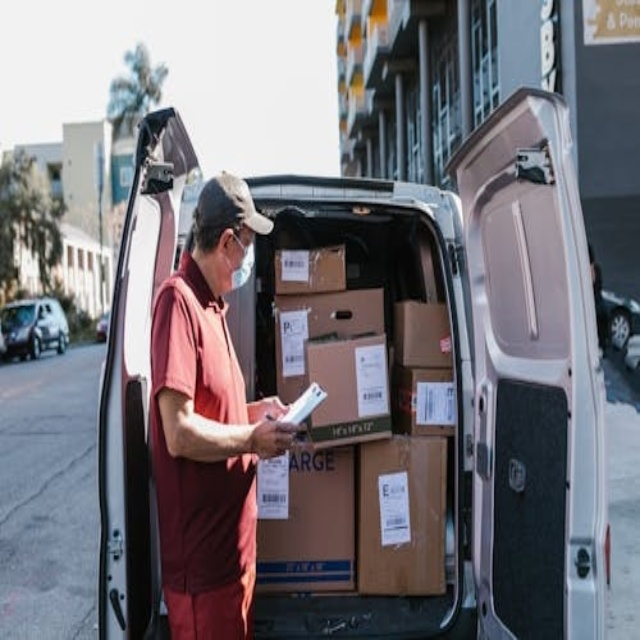Mascara: (227, 235, 254, 290)
Sin_guantes: (252, 413, 305, 462)
